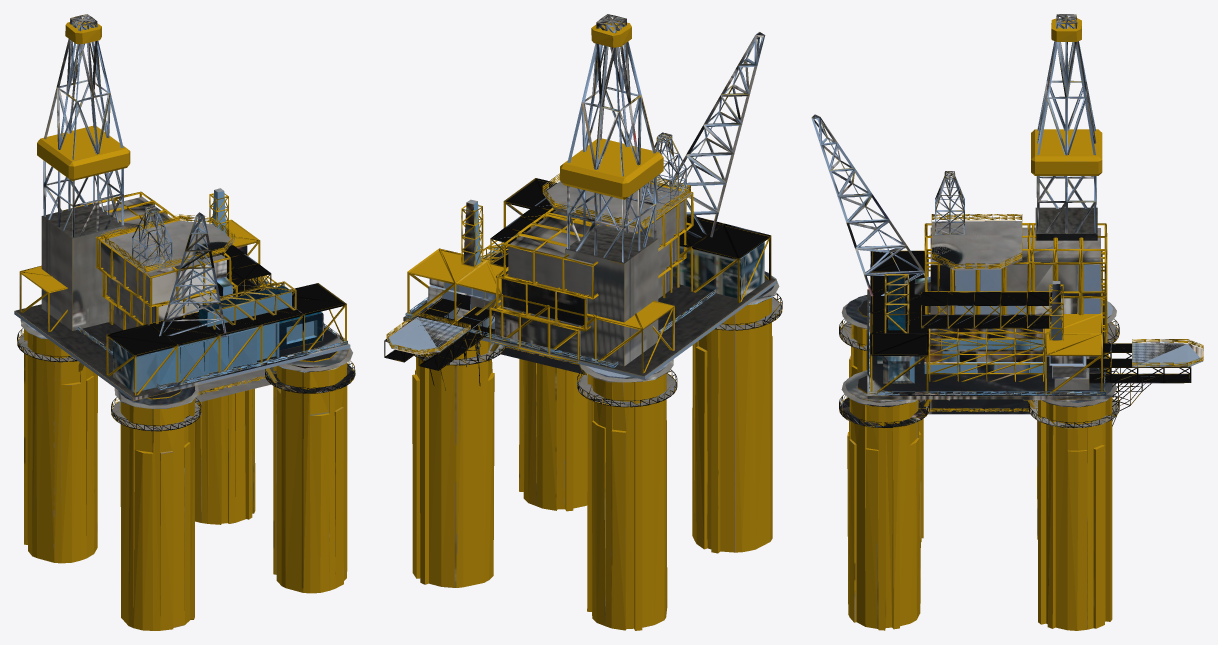
File: rig.fbx
The picture shows the model from 3 angles, left to right: view 1: azimuth 30°, elevation 25°; view 2: azimuth 150°, elevation 25°; view 3: azimuth 270°, elevation 25°; orthographic projection. The views are drawn at different scales.
Parts seen in each view (by area): view 1: rig; view 2: rig; view 3: rig.
Part boxes in pixels (<box>): rig: <box>14,14,355,630</box>; rig: <box>384,14,782,630</box>; rig: <box>811,14,1203,630</box>.
Size of the model in its own units: 9624 by 20942 by 13959.
Materials: 1 (1 with a texture image).
